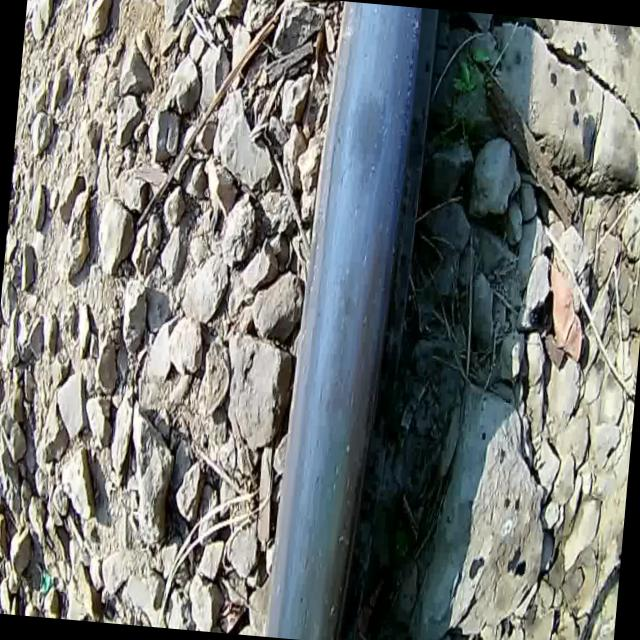Squats: (304, 66, 430, 208)
